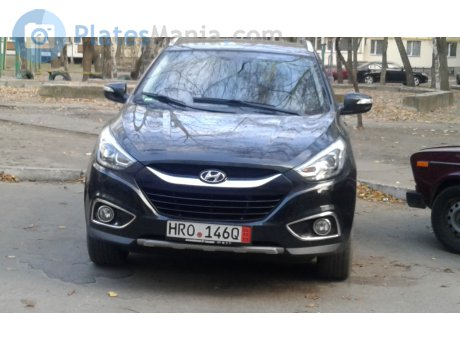License Plates: (167, 220, 239, 240)
